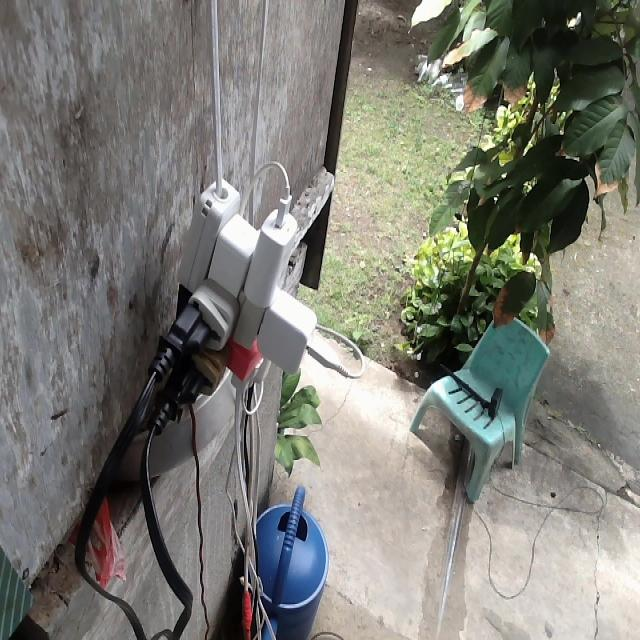-: (171, 174, 316, 398)
